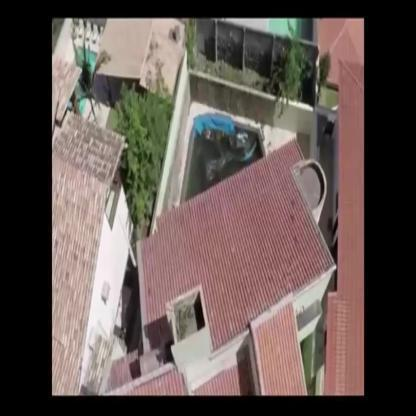agua: (197, 129, 252, 173)
